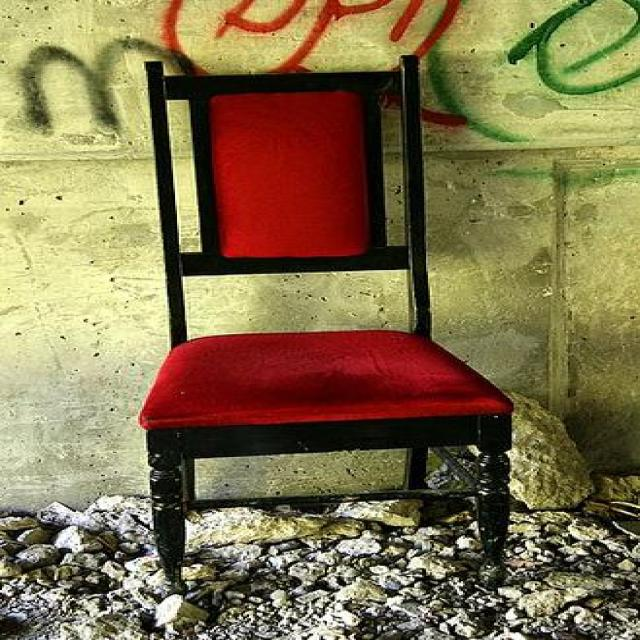chair: (138, 52, 513, 594)
